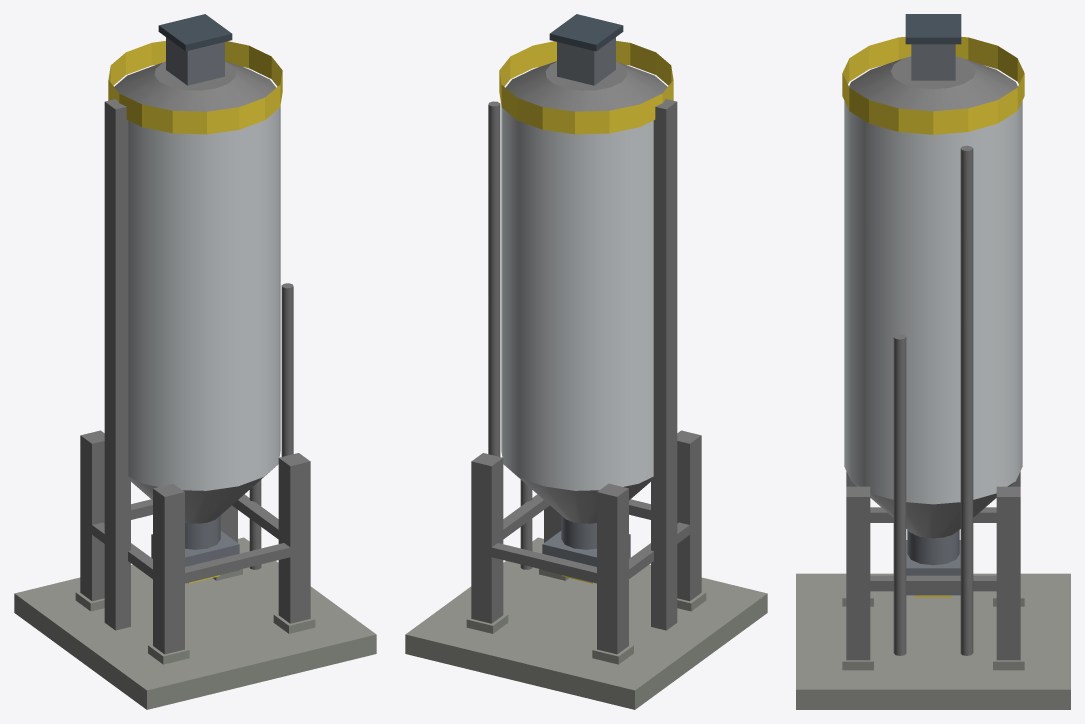
File: mashup-silo-mid-prebuilt.fbx
3 renders of one model, left to right at view 1: azimuth 30°, elevation 25°; view 2: azimuth 150°, elevation 25°; view 3: azimuth 270°, elevation 25°, orthographic. The views are drawn at different scales.
Parts seen in each view (by area): view 1: a1025.Silo; view 2: a1025.Silo; view 3: a1025.Silo.
Boxes of the visible parts, bbox=[...] form: a1025.Silo: bbox=[14, 14, 376, 709]; a1025.Silo: bbox=[405, 14, 767, 709]; a1025.Silo: bbox=[796, 14, 1070, 709].
Bounding box in the file's own units: 7.4 × 18.6 × 7.4.
